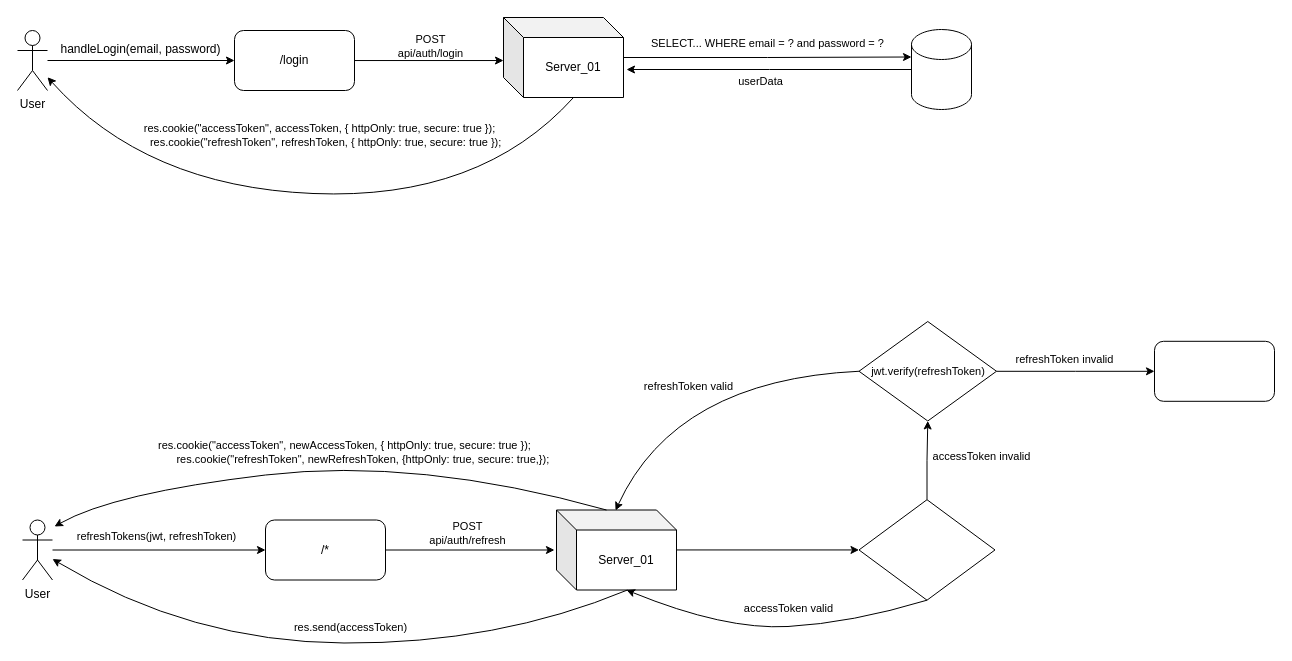
Some shapes in this 1292 by 661 pixel diagram are drawn without their labels. Here are the shapes that lost their labels. From the top down, the centre of each, then its label:
point (941, 69): DB_01
point (1214, 370): Redirects to /login
point (926, 549): jwt.verify(accessToken)
